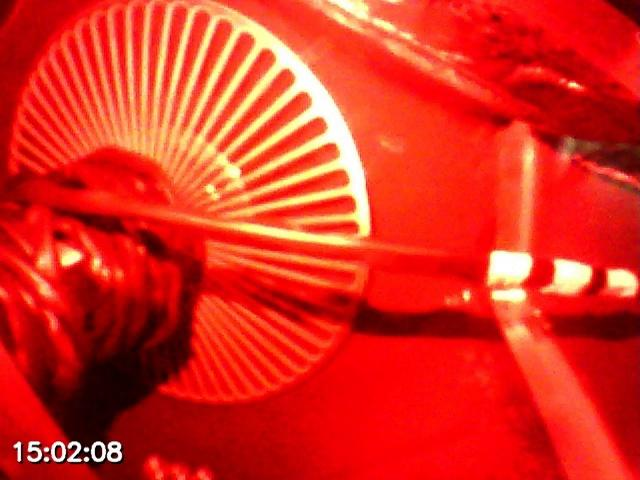white-dots: (486, 250, 640, 303)
